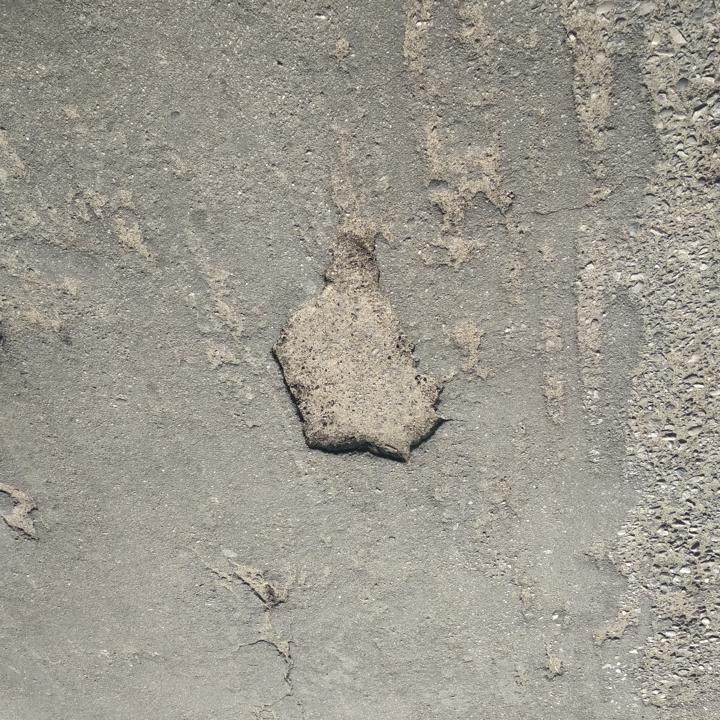pothole: (264, 237, 455, 469), (0, 480, 44, 542), (231, 563, 280, 609)
